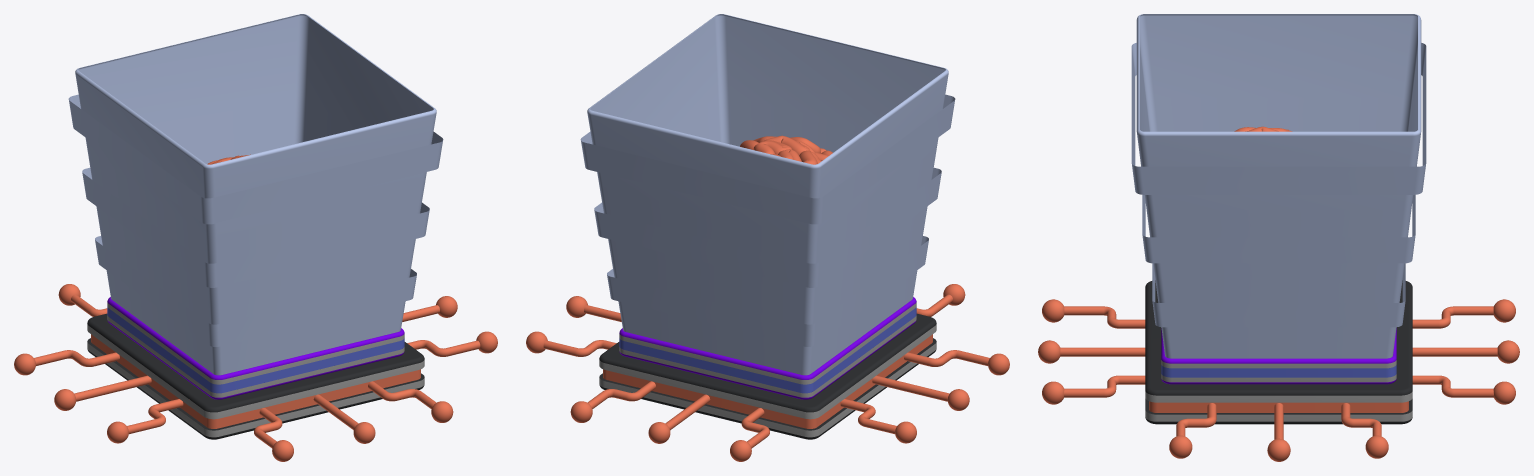
File: artificial-intelligence-animated-icon-766525975893.glb
3 renders of one model, left to right at view 1: azimuth 30°, elevation 25°; view 2: azimuth 150°, elevation 25°; view 3: azimuth 270°, elevation 25°, orthographic. The views are drawn at different scales.
Visible parts, largest first — view 1: Cube.003, Cube, NurbsPath, Cube.001; view 2: Cube.003, Cube, NurbsPath, Cube.001, GP_Layer; view 3: Cube.003, Cube, NurbsPath, Cube.001.
Part boxes in pixels (box(x1,y1,x2,y2)): Cube.003: box(68, 14, 443, 375); Cube: box(87, 313, 424, 439); NurbsPath: box(14, 284, 497, 461); Cube.001: box(107, 297, 404, 399); Cube.003: box(580, 14, 955, 375); Cube: box(599, 313, 936, 439); NurbsPath: box(526, 284, 1009, 461); Cube.001: box(619, 297, 916, 399); GP_Layer: box(740, 135, 832, 164); Cube.003: box(1131, 14, 1426, 358); Cube: box(1145, 280, 1412, 424); NurbsPath: box(1038, 299, 1519, 461); Cube.001: box(1161, 328, 1396, 384).
Size of the model in its own units: 0.4984 by 0.3333 by 0.4915.
